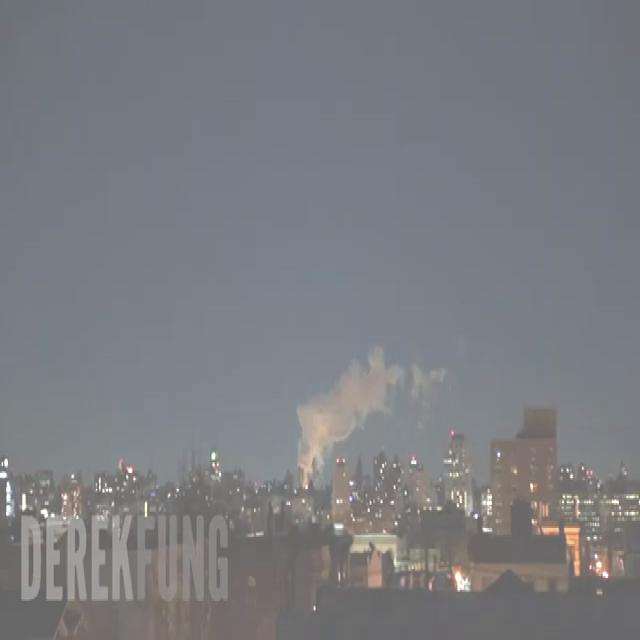smoke: (296, 348, 396, 491)
